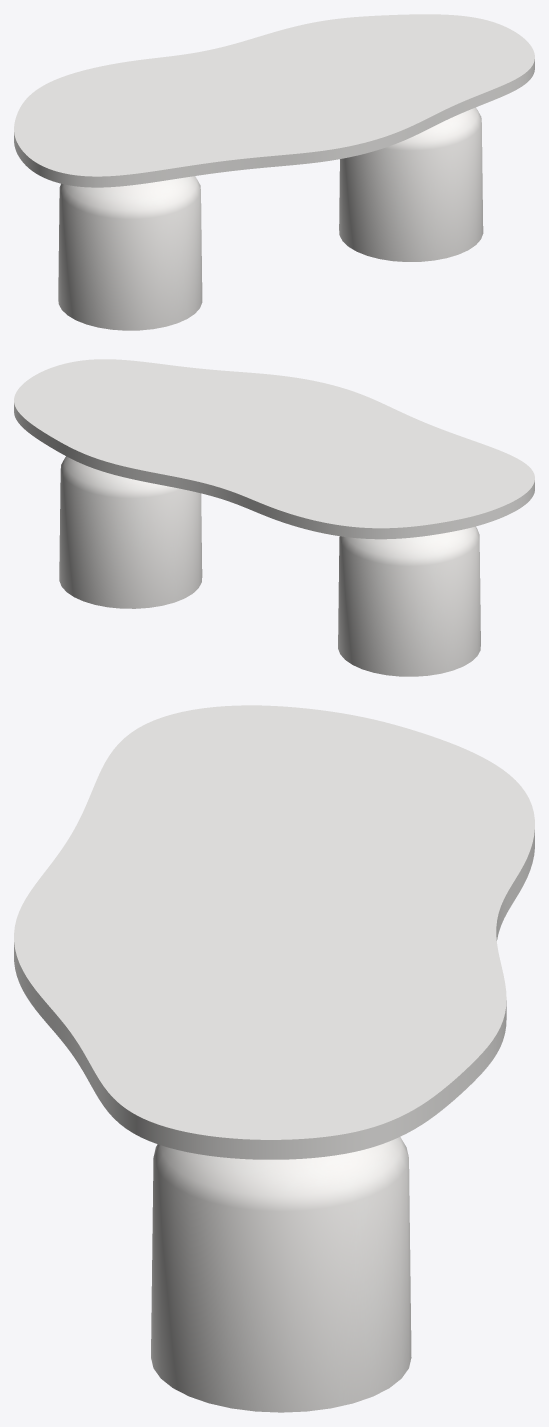
The model's file is purewhite_toplast_standard_tornado.glb.
3 renders of one model, top to bottom at view 1: azimuth 30°, elevation 25°; view 2: azimuth 150°, elevation 25°; view 3: azimuth 270°, elevation 25°, orthographic. The views are drawn at different scales.
Parts seen in each view (by area): view 1: standard_toplast, tornado; view 2: standard_toplast, tornado; view 3: standard_toplast, tornado.
Part boxes in pixels (bbox=[...]): standard_toplast: bbox=[14, 14, 534, 187]; tornado: bbox=[58, 107, 483, 330]; standard_toplast: bbox=[14, 359, 534, 539]; tornado: bbox=[59, 456, 480, 676]; standard_toplast: bbox=[14, 705, 534, 1159]; tornado: bbox=[151, 1137, 411, 1412].
Bounding box in the file's own units: 7.5 × 2.5 × 3.8.
1 material, 1 textured.
